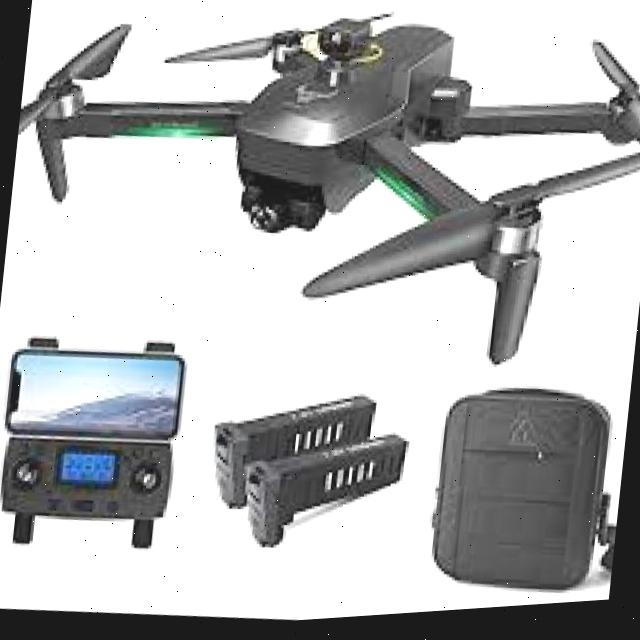drone: (4, 0, 640, 400)
